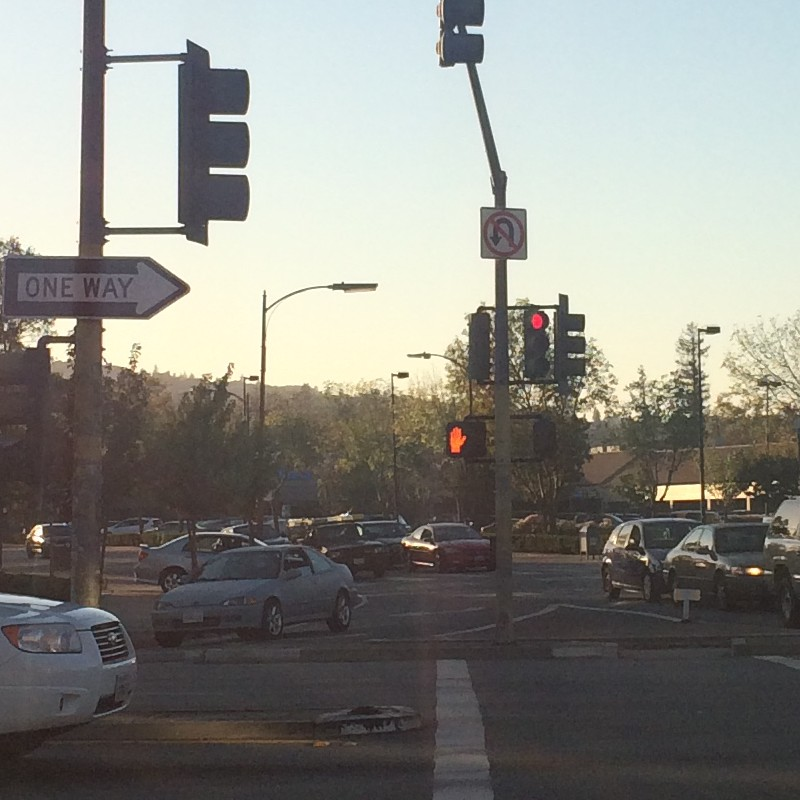stop: (443, 420, 489, 459)
